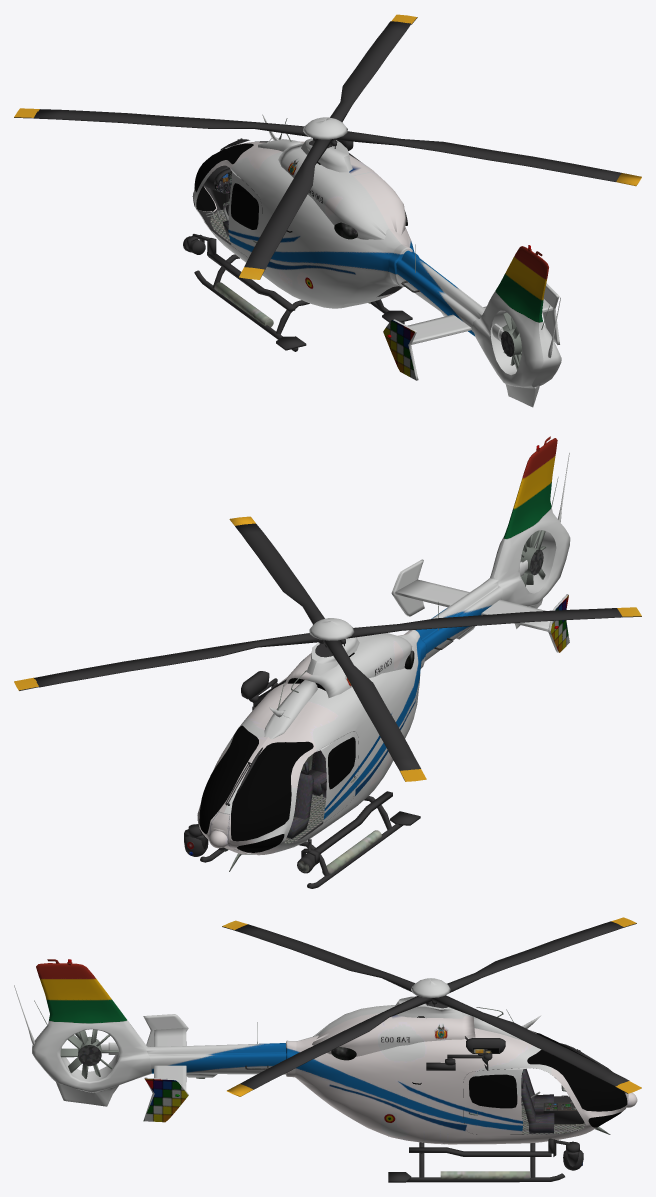
File: helocopter.glb
3 renders of one model, top to bottom at view 1: azimuth 30°, elevation 25°; view 2: azimuth 150°, elevation 25°; view 3: azimuth 270°, elevation 25°, orthographic. The views are drawn at different scales.
Parts seen in each view (by area): view 1: chassis, static_rotor; view 2: chassis, static_rotor; view 3: chassis, static_rotor.
Boxes of the visible parts, x1,y1,x2,y2 form: chassis: (183,114,561,407); static_rotor: (14,14,641,279); chassis: (184,436,570,888); static_rotor: (14,516,641,781); chassis: (14,959,637,1182); static_rotor: (222,917,641,1096).
Bounding box in the file's own units: 7.54 × 3.95 × 11.26.
5 materials, 4 textured.
